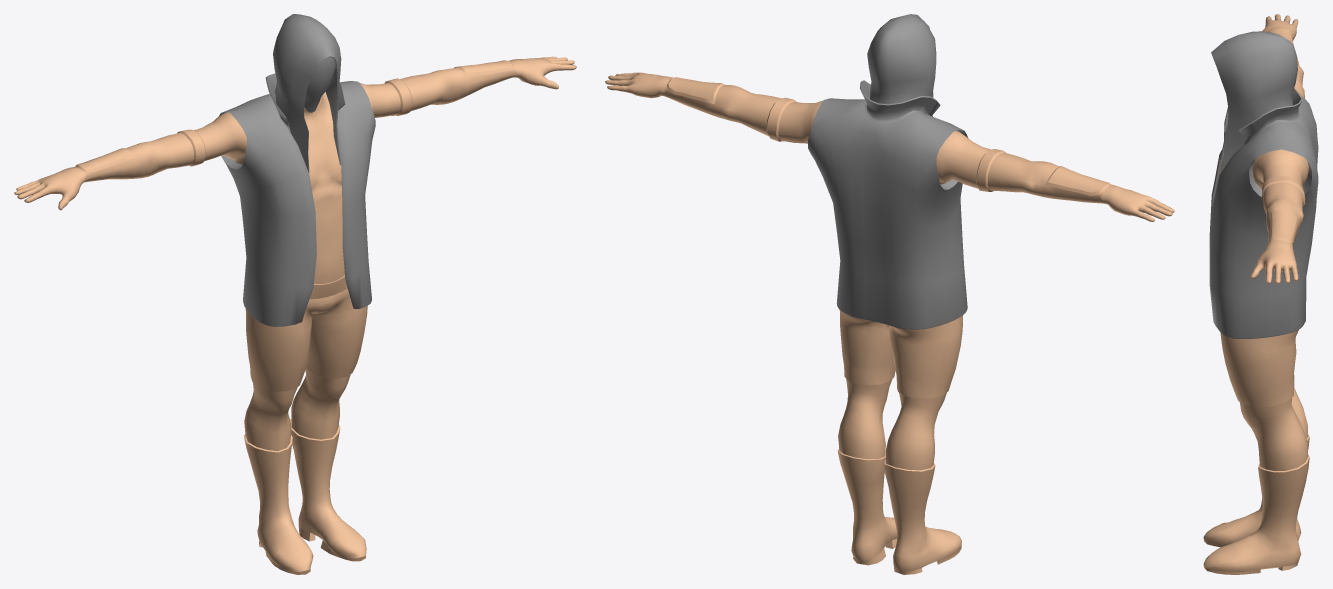
The model's file is MaleMorph.FBX.
3 renders of one model, left to right at view 1: azimuth 30°, elevation 25°; view 2: azimuth 150°, elevation 25°; view 3: azimuth 270°, elevation 25°, orthographic. The views are drawn at different scales.
Parts seen in each view (by area): view 1: Clothes, Veste, Mask; view 2: Clothes, Veste; view 3: Veste, Clothes.
Part boxes in pixels (x1,y1,x2,y2): Clothes: (14, 56, 576, 574); Veste: (219, 14, 375, 326); Mask: (304, 57, 335, 112); Clothes: (605, 72, 1174, 574); Veste: (808, 14, 968, 329); Veste: (1209, 31, 1318, 338); Clothes: (1203, 14, 1309, 574).
Bounding box in the file's own units: 200 × 181 × 36.26.
